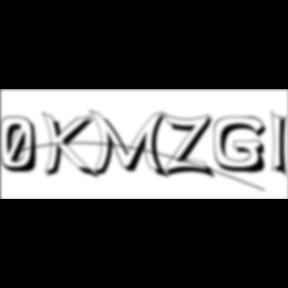0: (0, 115, 46, 174)
G: (214, 116, 272, 176)
K: (42, 110, 101, 182)
M: (89, 108, 173, 181)
Z: (163, 112, 218, 181)
